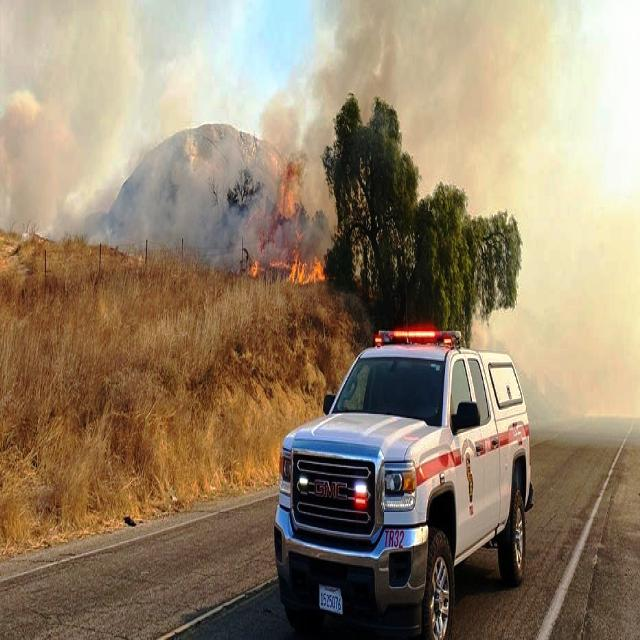api: (248, 150, 327, 291)
asap: (1, 1, 253, 274), (248, 1, 424, 240)
